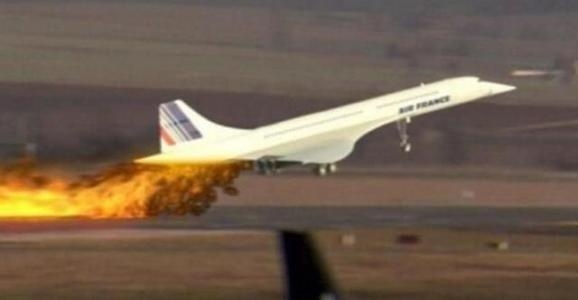fire: (0, 157, 209, 222)
